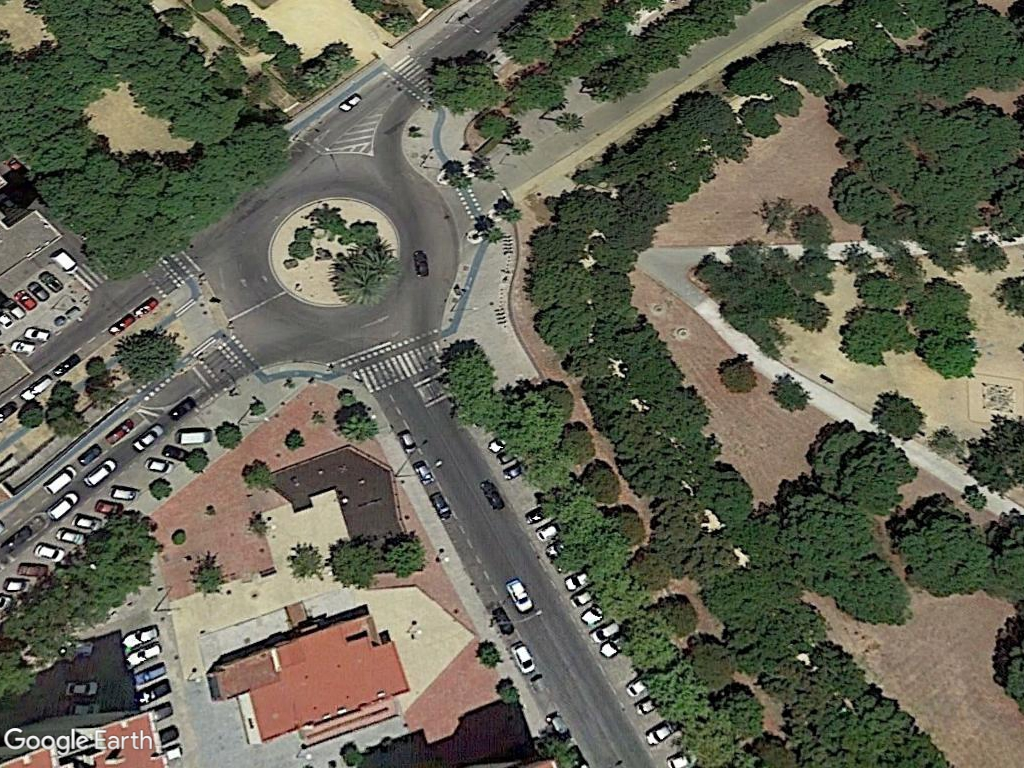car: (506, 640, 539, 678), (393, 425, 421, 460)
truck: (45, 246, 84, 278), (173, 424, 217, 449)
van: (500, 574, 539, 617)
